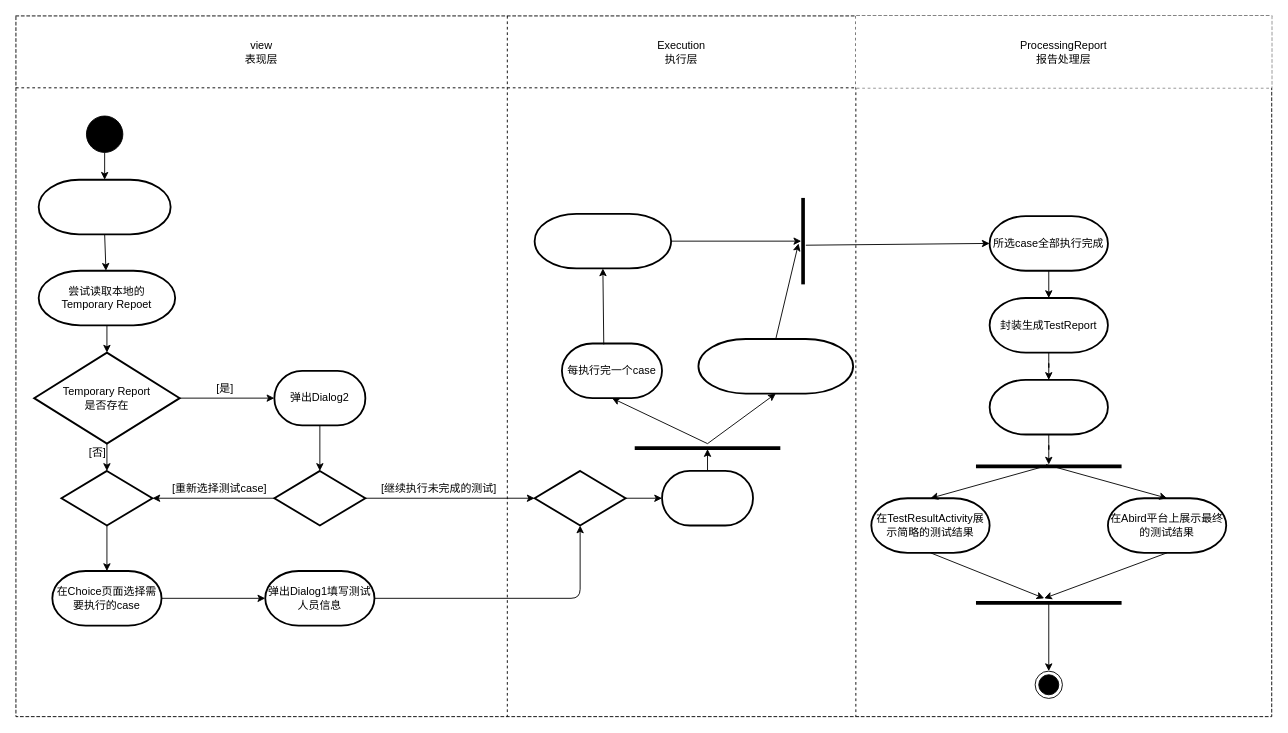
This 1288x733 diagram has some shape labels left out. The box of each missing label's shape, as (x1, y1, x2, y2) in pixels:
将执行过程中的关键信息记录在Temporary Report: (533, 212, 672, 269)
悬浮窗显示关键信息所选case全部执行完成后关闭: (697, 338, 854, 394)
打开泰坦、影视、酷喵桌面后输入shell命令: (37, 178, 171, 235)
执行选择的case: (661, 470, 753, 526)
通过MTop接口发送至Abird平台: (988, 379, 1108, 435)
